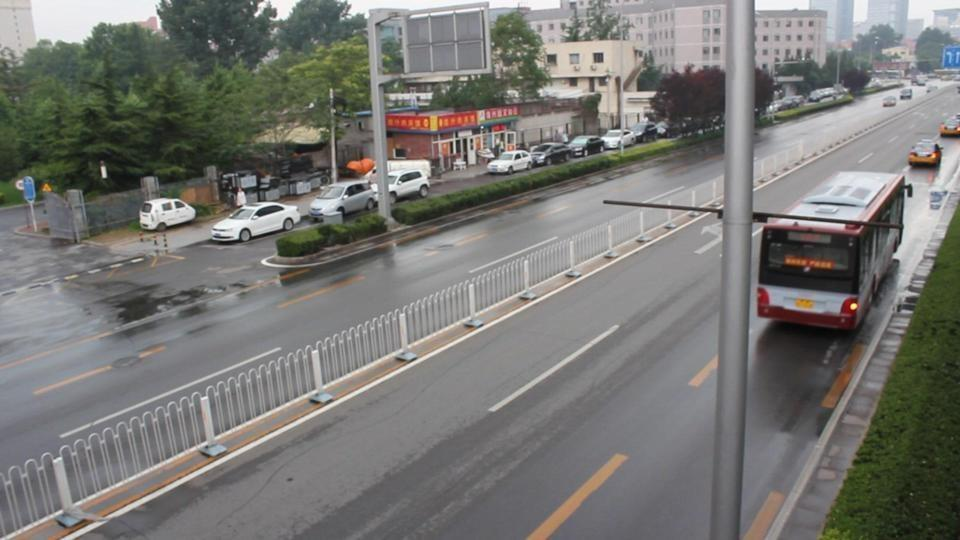car: (210, 201, 302, 243), (306, 181, 379, 223), (366, 166, 431, 202), (139, 197, 196, 231), (486, 150, 534, 175), (528, 142, 575, 167), (908, 137, 943, 167), (566, 136, 606, 159), (627, 122, 661, 145), (601, 128, 633, 150), (938, 113, 960, 136), (807, 87, 837, 103), (898, 86, 913, 101), (882, 96, 897, 108)
